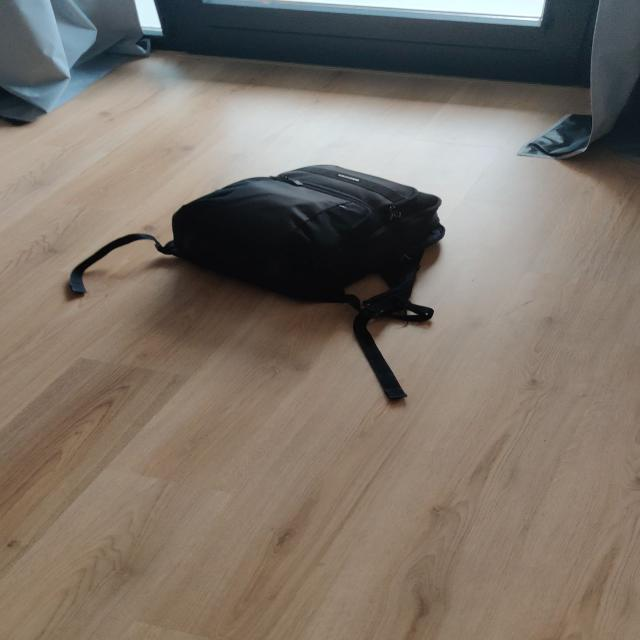backpack: (146, 160, 456, 307)
